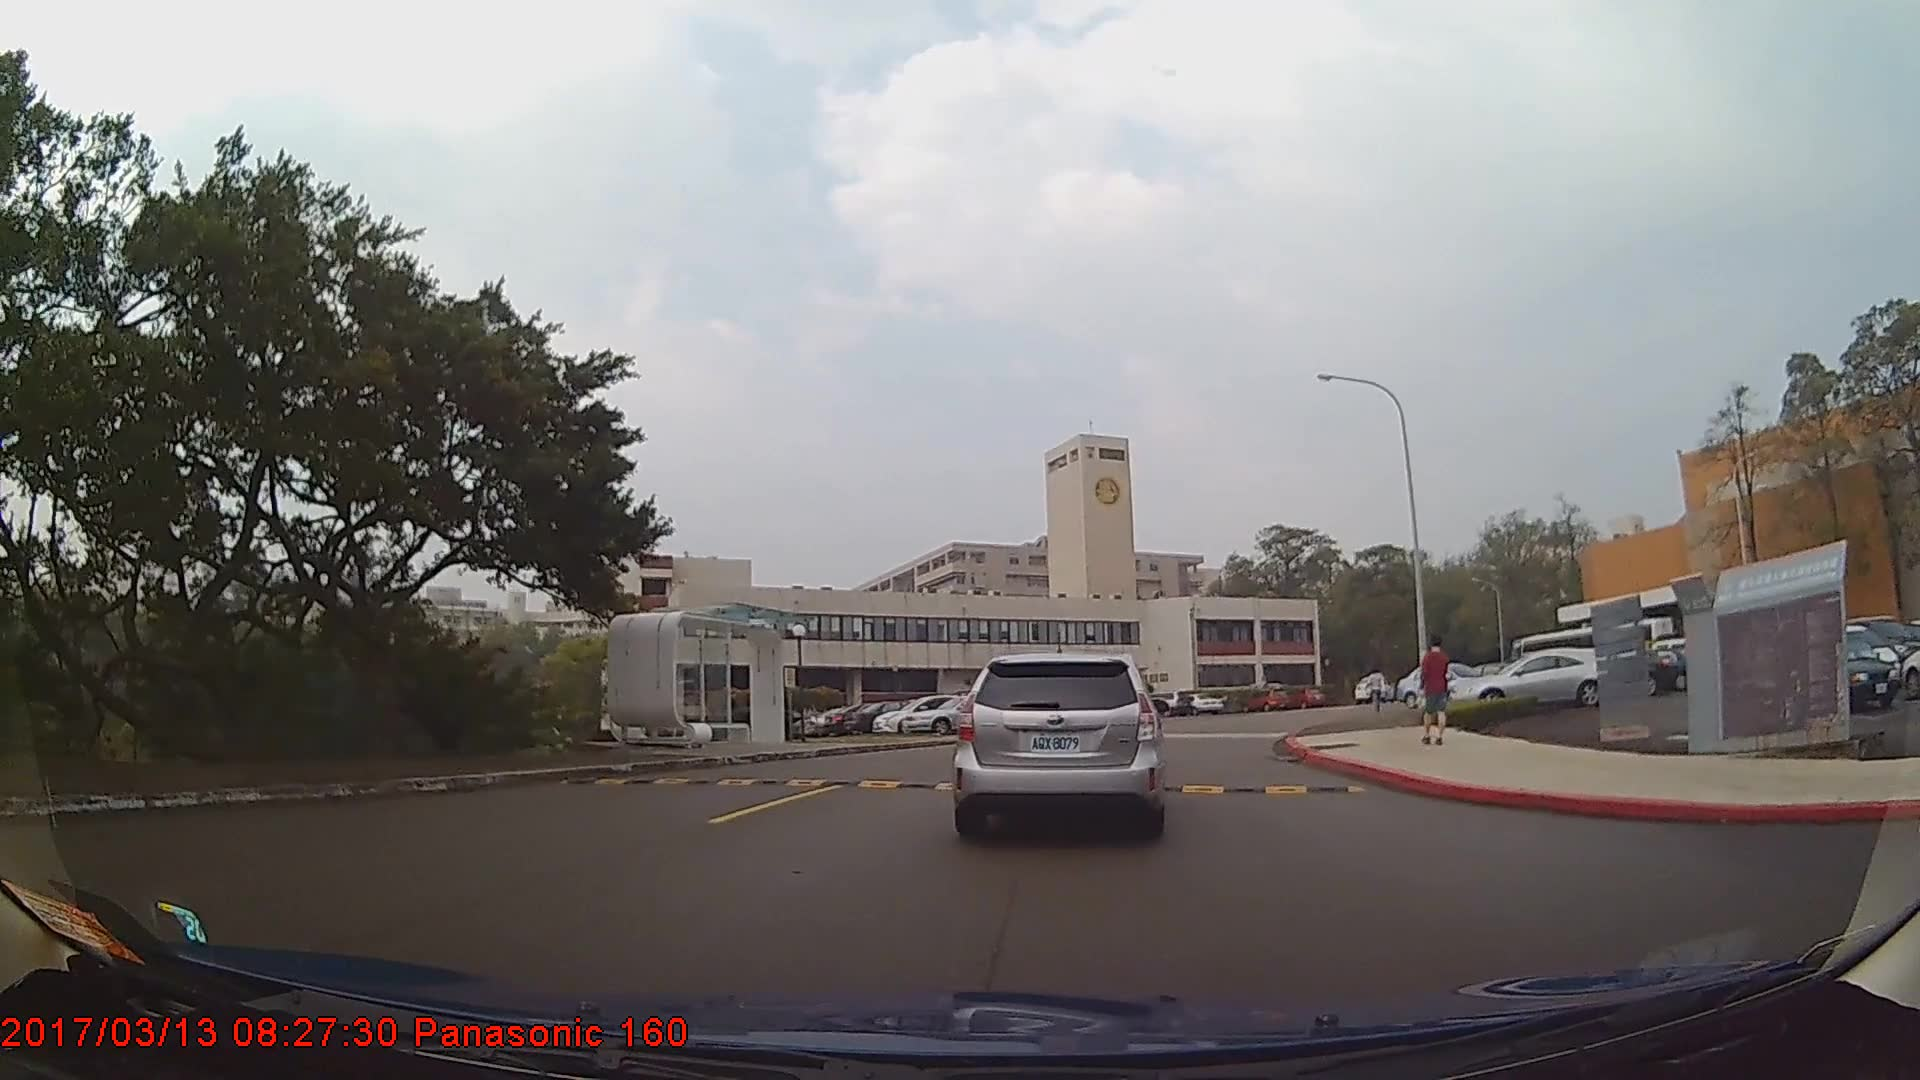pedestrian: (1419, 635, 1453, 748), (1365, 665, 1391, 713)
vehicle: (959, 645, 1162, 839), (1447, 649, 1622, 709), (1819, 635, 1897, 710), (1144, 691, 1198, 717)
